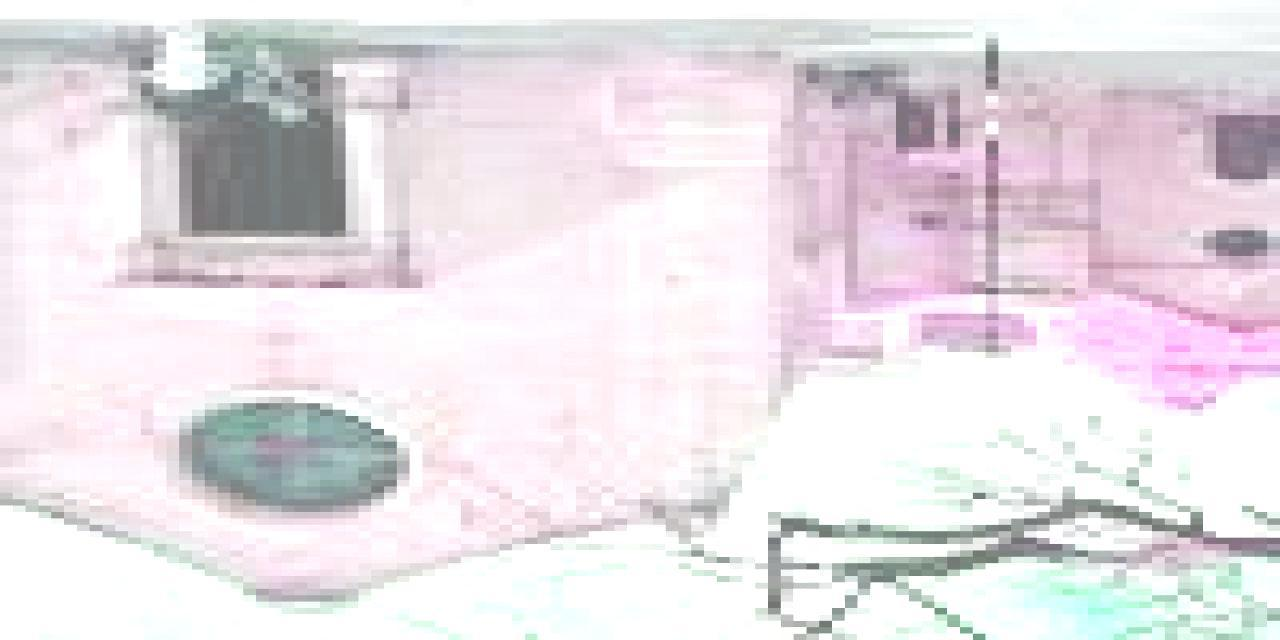Agia Aikaterini: (1, 27, 1280, 610)
